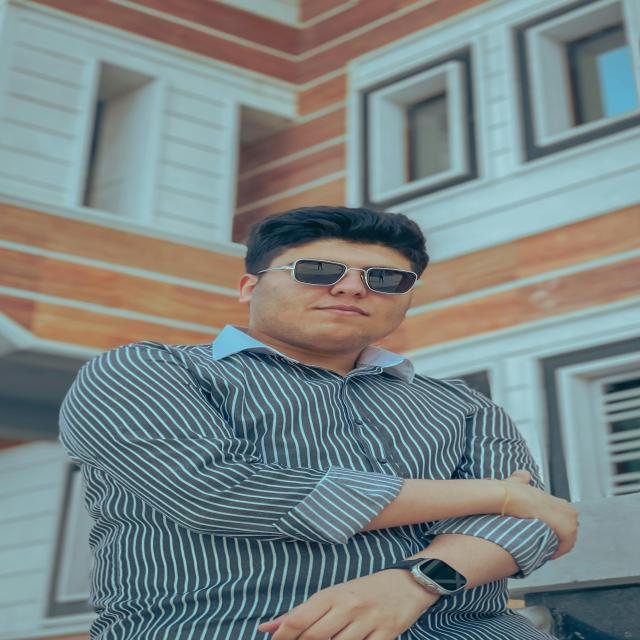human: (57, 202, 588, 640)
